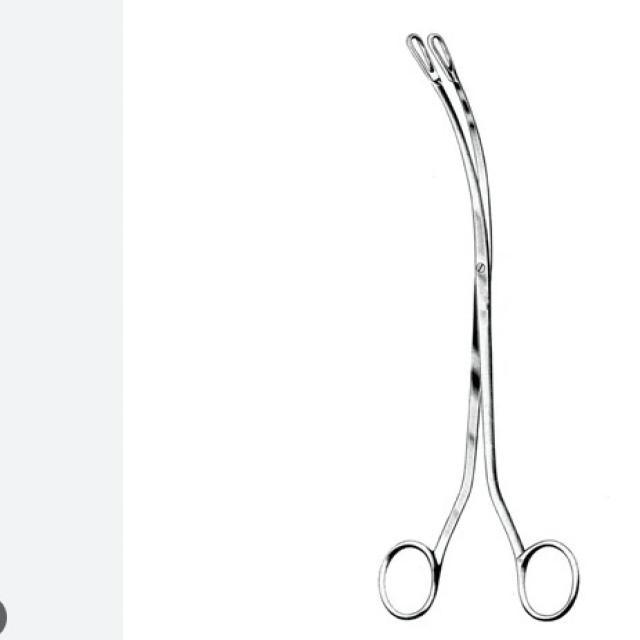Desjardin Forceps: (376, 21, 583, 624)
